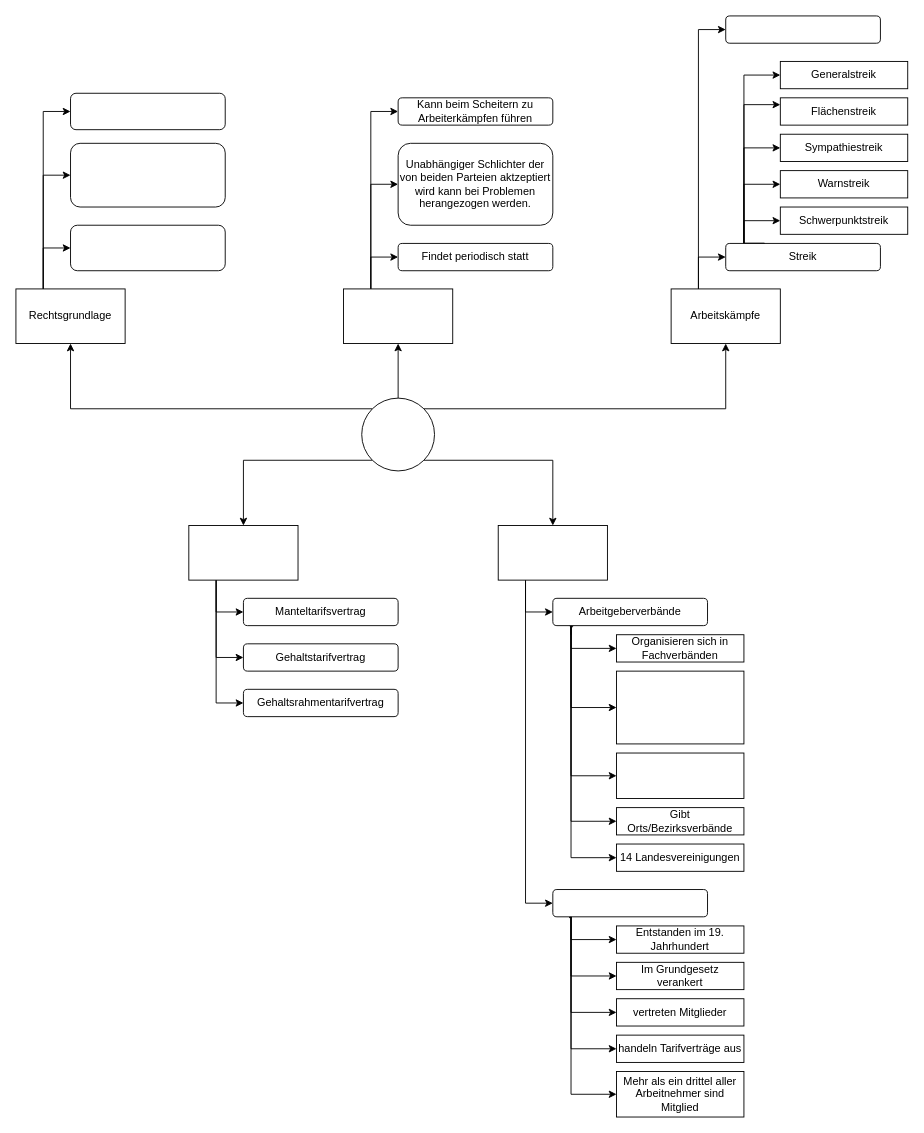
The diagram is 924 pixels wide and 1133 high, and some of its shapes have lost their labels. The centre of each missing label's shape, as x and y in pixels:
49 Bundesfachspitzen-gewerkschaften: the point at 680,775
Aussperrung: the point at 802,29
Basiert auf TGV (Tarifvertragsgesetz, seit dem 9. April 1949: the point at 147,247
BDA (Bundesvereinigung der deutschen Arbeitgeber) als Dachorganisation: the point at 680,707
Gewerkschaft: the point at 630,903
Tarifpartner: the point at 552,552
Tarifrecht: the point at 398,434
Tarifverhandlungen: the point at 398,316
Tarifvertragsarten: the point at 243,552
Tarifverträge gelten für Arbeitsverträge unmittelbar und verpflichtend: the point at 147,174
Tarifverträge müssen schriftlich sein: the point at 147,111
